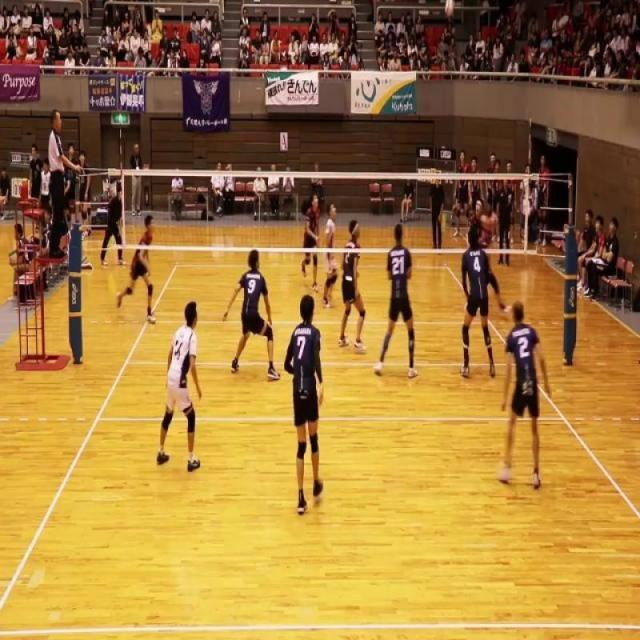volleyball: (444, 0, 455, 20)
